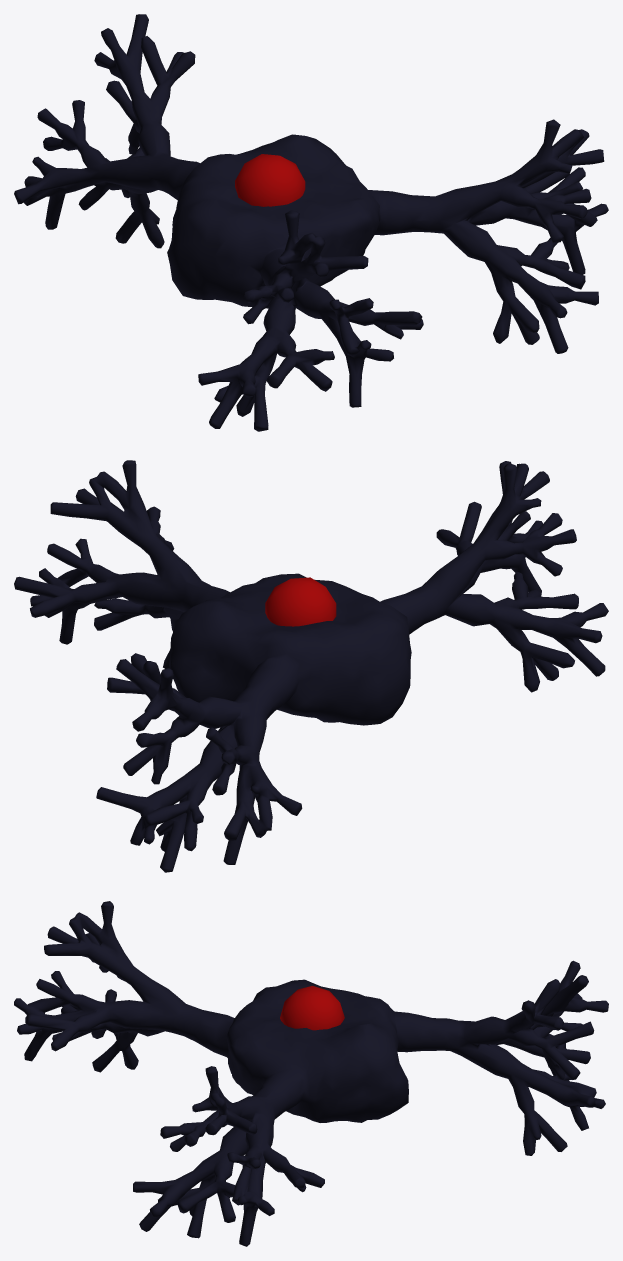
File: start_end_2.fbx
The picture shows the model from 3 angles, top to bottom: view 1: azimuth 30°, elevation 25°; view 2: azimuth 150°, elevation 25°; view 3: azimuth 270°, elevation 25°; orthographic projection. The views are drawn at different scales.
Visible parts, largest first — view 1: material3; view 2: material3; view 3: material3.
Boxes of the visible parts, x1,y1,x2,y2 form: material3: (14,14,608,431); material3: (14,460,608,872); material3: (14,901,608,1246).
Size of the model in its own units: 8.82 by 4.17 by 10.6.
